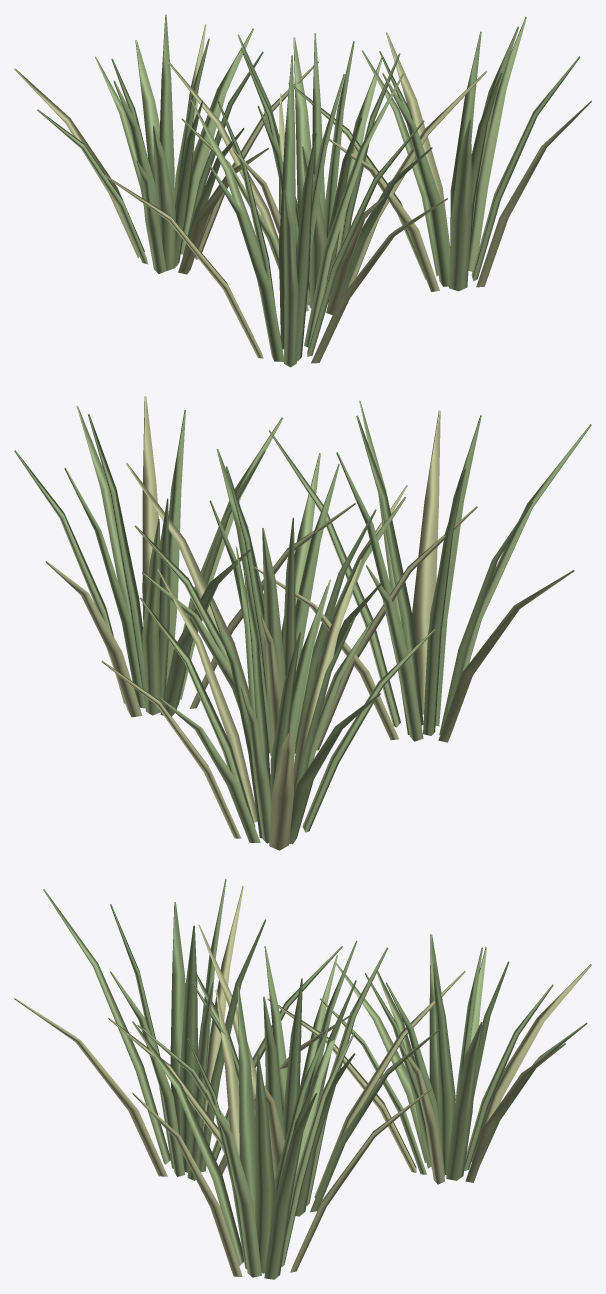
File: campo_grass_4.glb
3 views of the same model, one above another, from view 1: azimuth 30°, elevation 25°; view 2: azimuth 150°, elevation 25°; view 3: azimuth 270°, elevation 25° (orthographic). The views are drawn at different scales.
Parts seen in each view (by area): view 1: CampoGrassFresh, CampoGrassDeep, CampoGrassGold; view 2: CampoGrassDeep, CampoGrassFresh, CampoGrassGold; view 3: CampoGrassFresh, CampoGrassDeep, CampoGrassGold.
Boxes of the visible parts, x1,y1,x2,y2 form: CampoGrassFresh: (37, 17, 580, 367); CampoGrassDeep: (111, 14, 518, 361); CampoGrassGold: (14, 24, 591, 363); CampoGrassDeep: (64, 410, 532, 838); CampoGrassFresh: (14, 400, 591, 844); CampoGrassGold: (45, 396, 574, 850); CampoGrassFresh: (43, 889, 587, 1279); CampoGrassDeep: (110, 879, 509, 1273); CampoGrassGold: (14, 886, 591, 1276).
Size of the model in its own units: 1.17 by 0.647 by 1.25.
